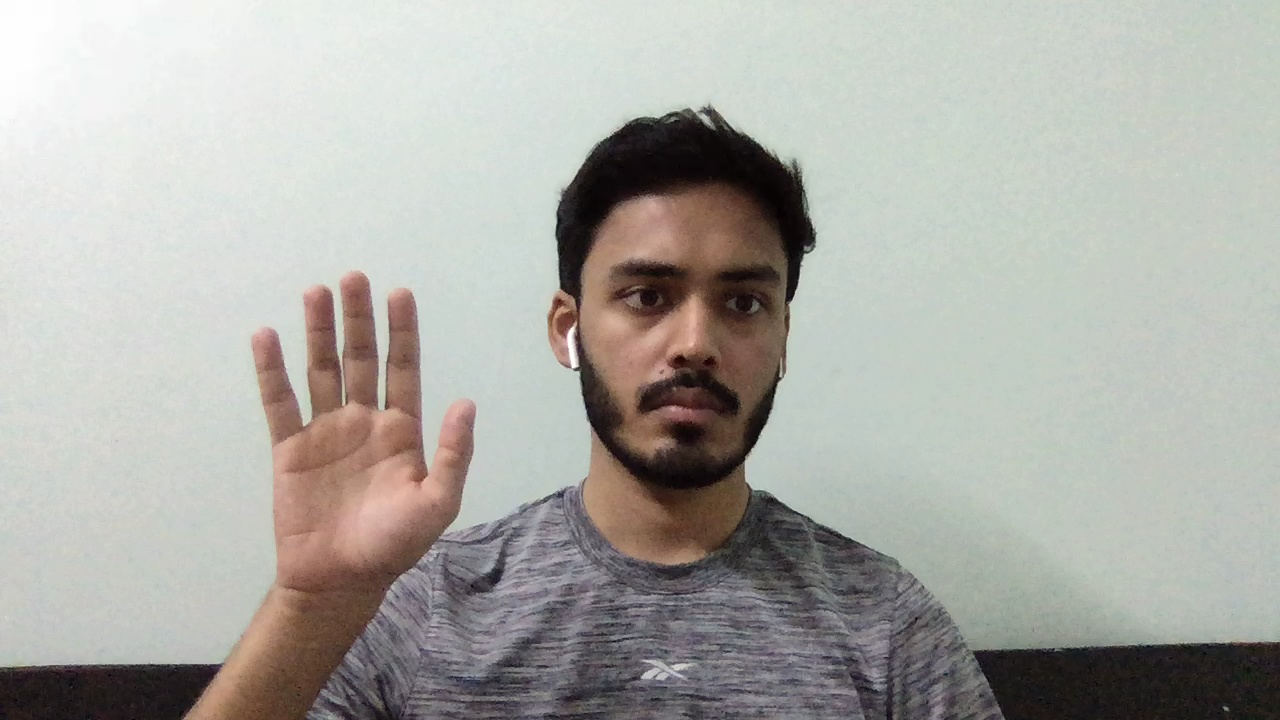Hello: (242, 261, 489, 626)
